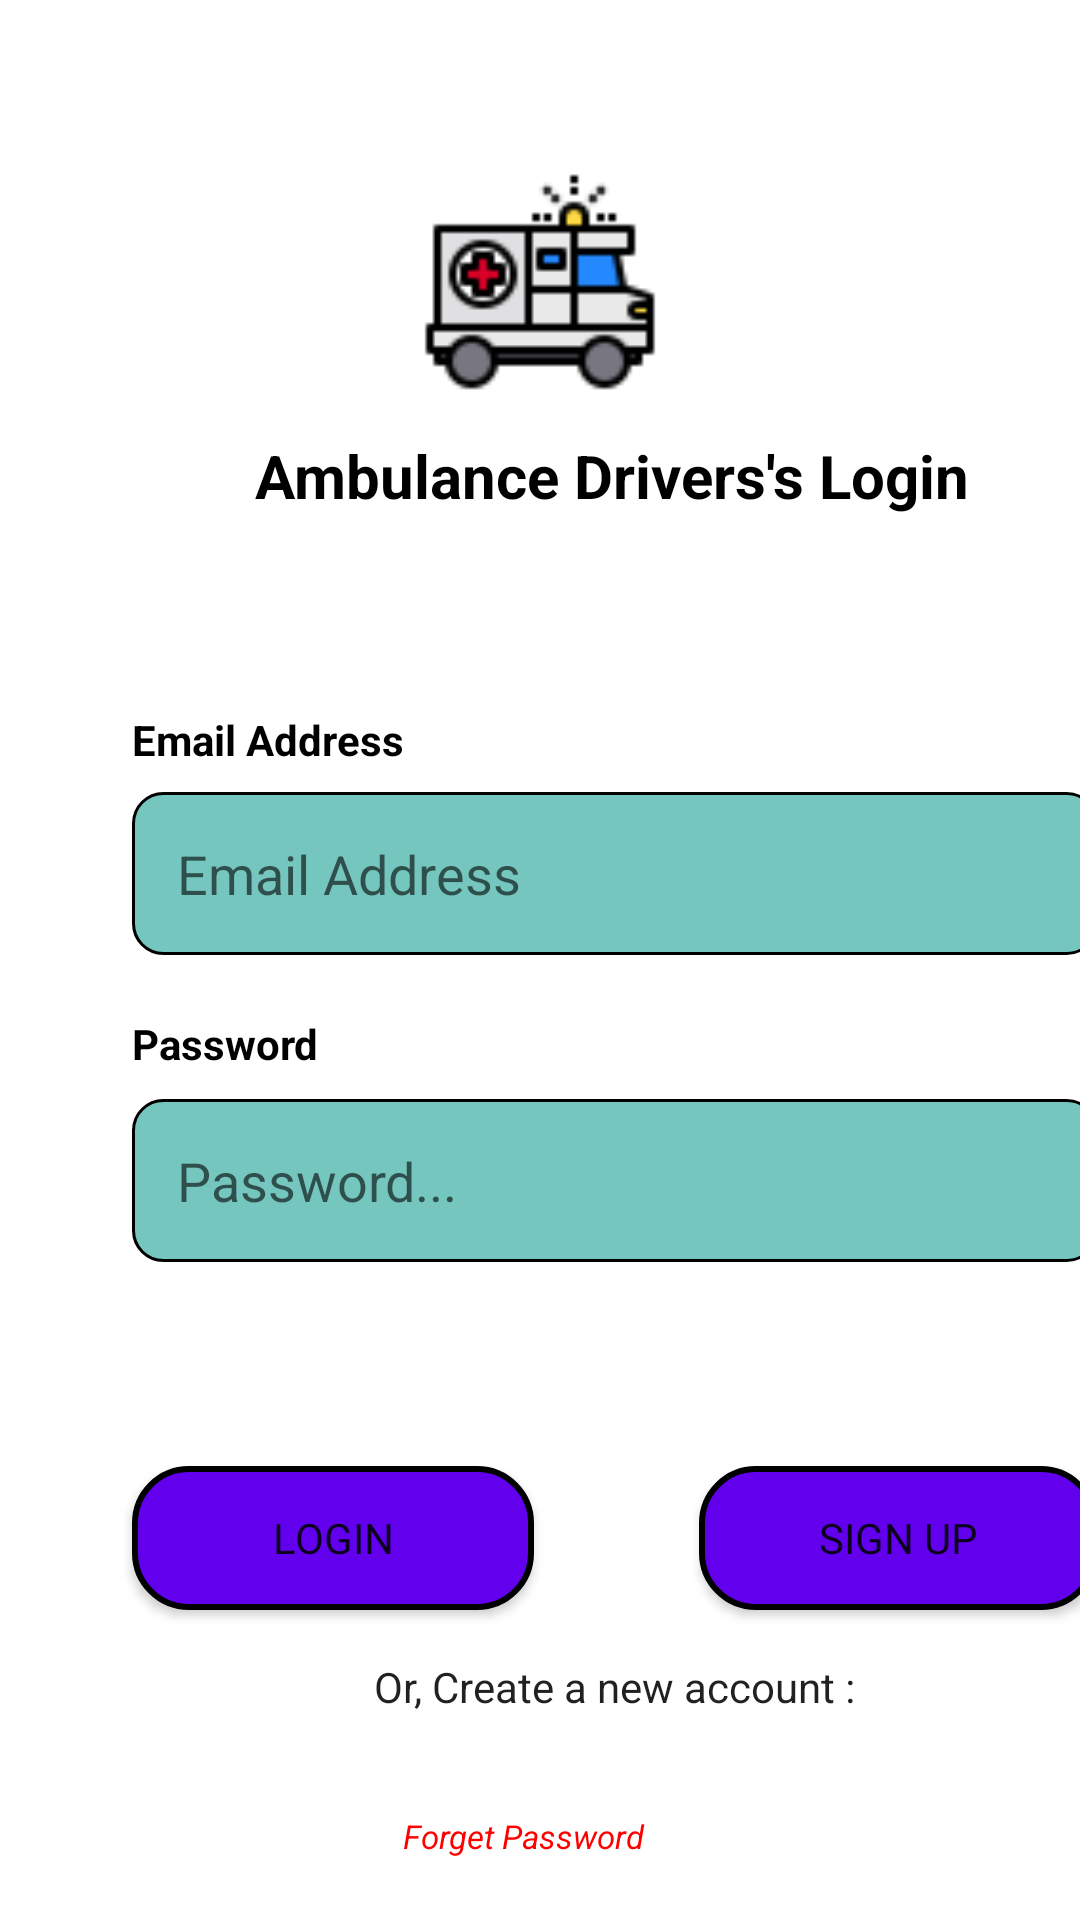

Named icons in this screenshot (1080px×1920px) and their bounding boxes, (x1,y1,x2,y2):
emergency truck: (425,174,655,390)
